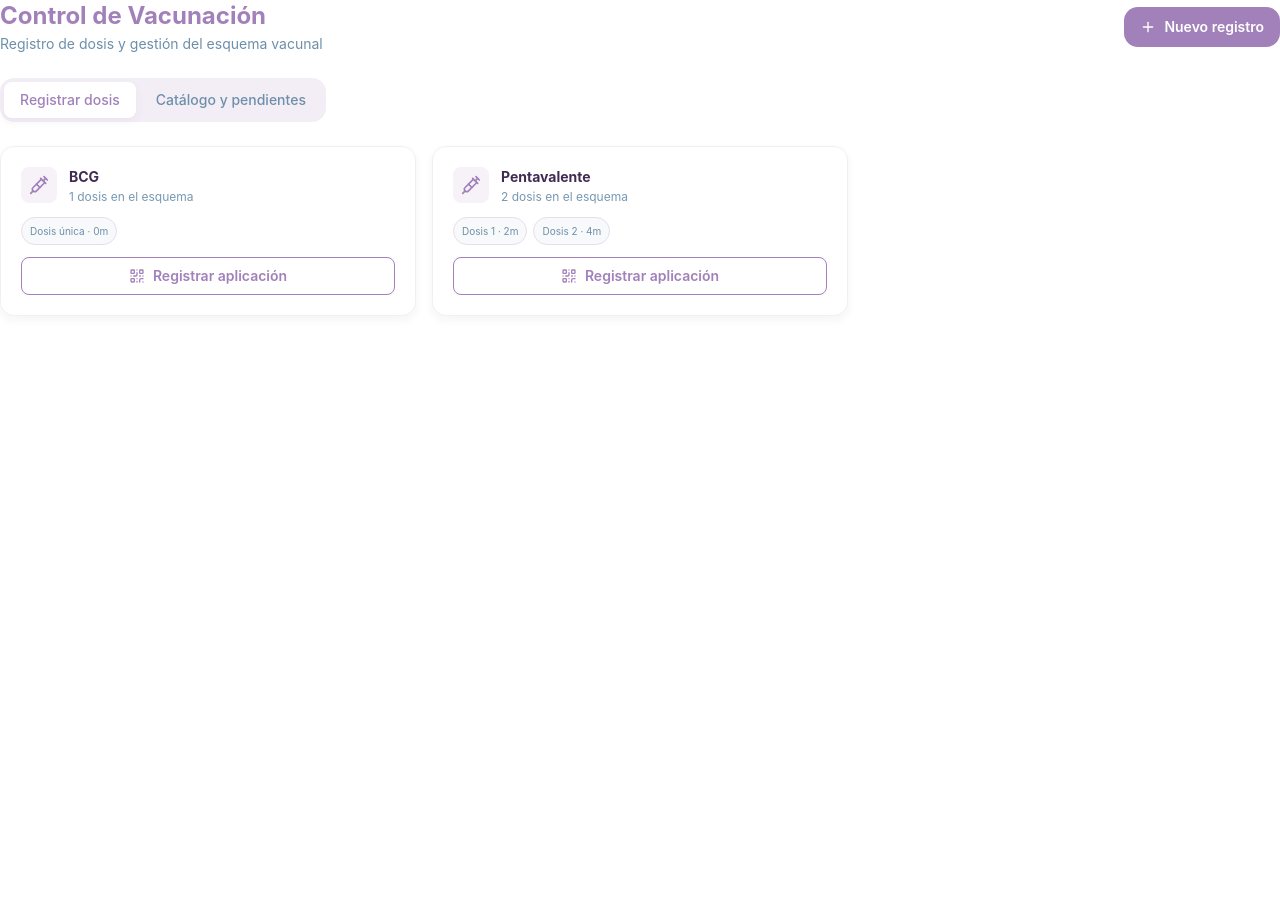
Test: VaccinationView – pestaña "Registrar dosis" › "Nuevo registro" abre el escáner sin vacuna preseleccionada
Expected: the heading "Control de Vacunación" is shown, [0,1,266,30]
Click the button "Nuevo registro": (1202, 27) [1124,7,1279,47]
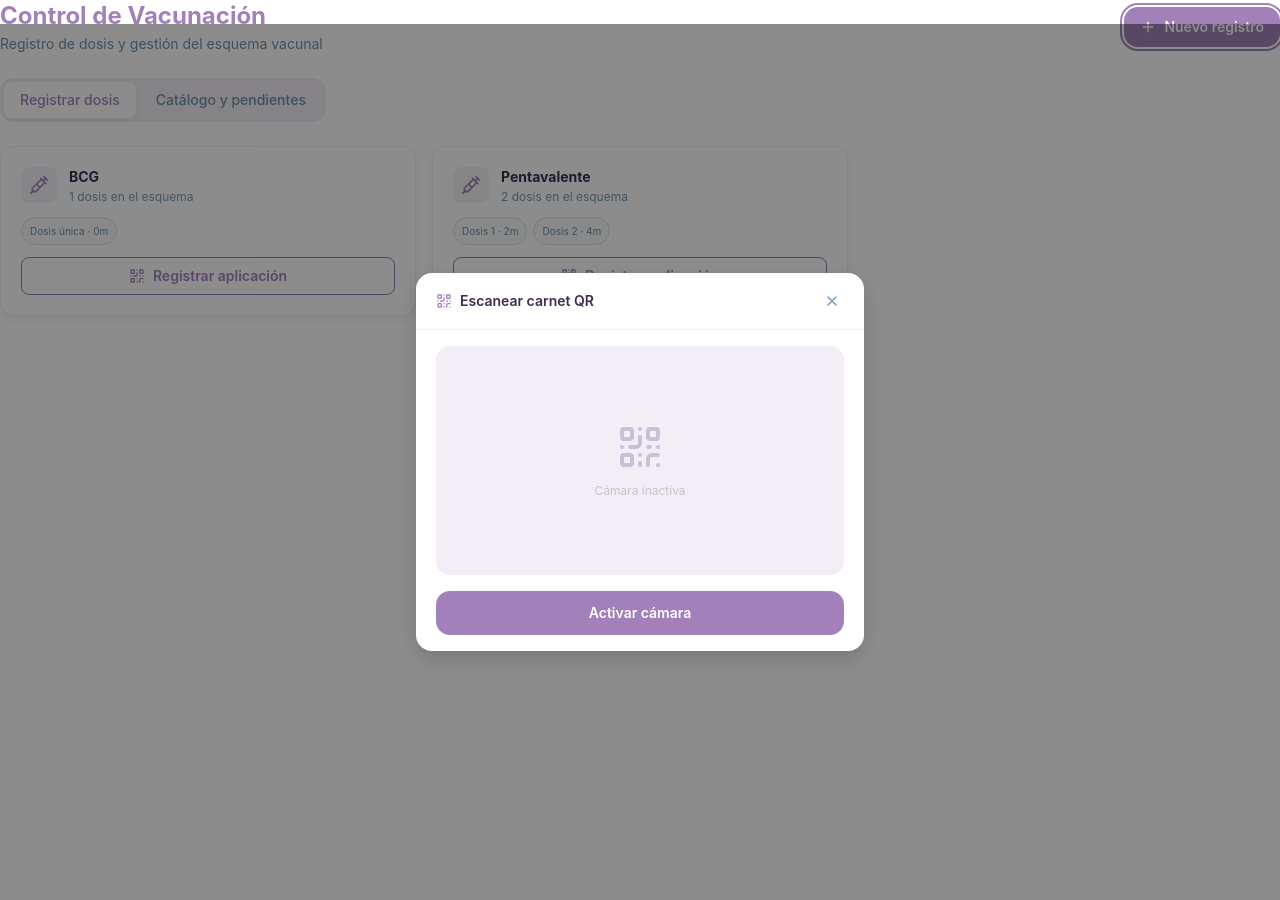
Expected: the heading "Escanear carnet QR" is shown, [460,291,594,311]
